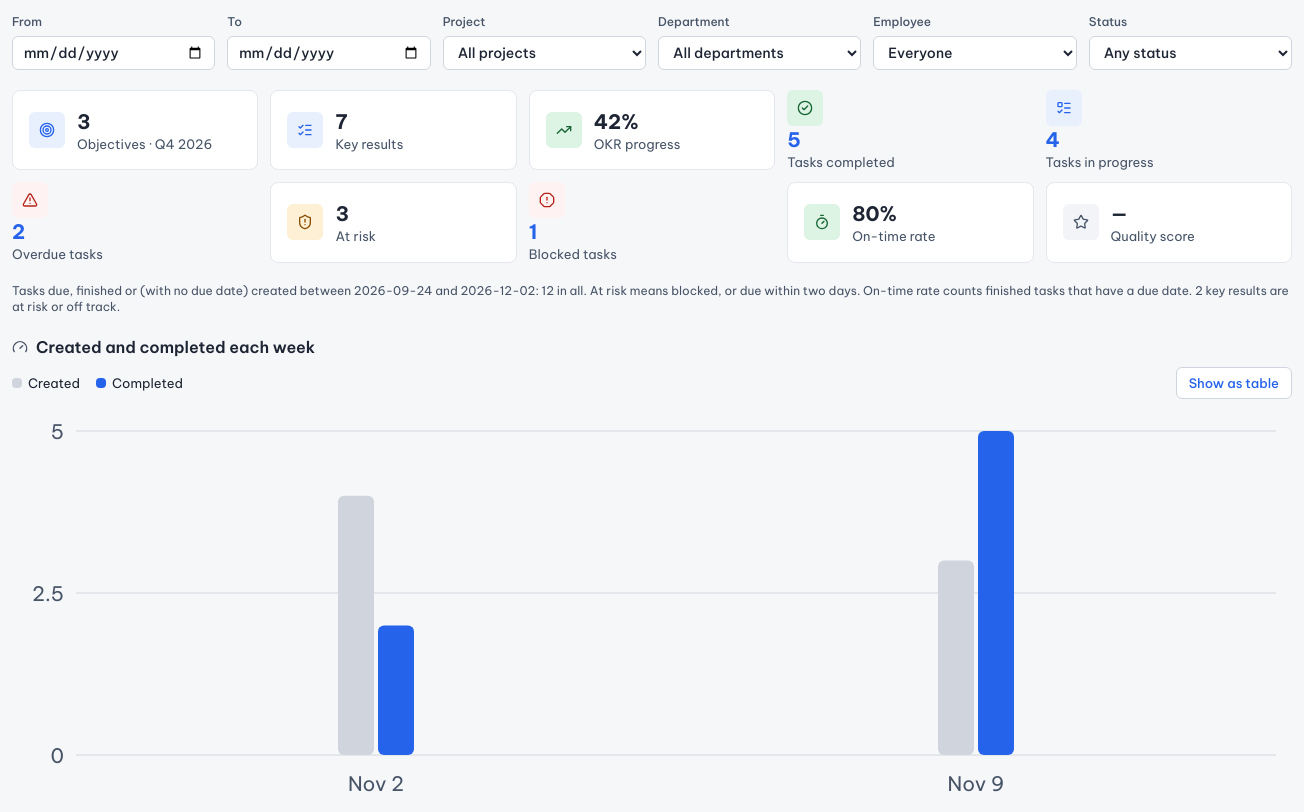
Test: OverviewScreen › switches the trend to a table
Click the button "Show as table" at (1234, 383), box [1176,366,1292,399]
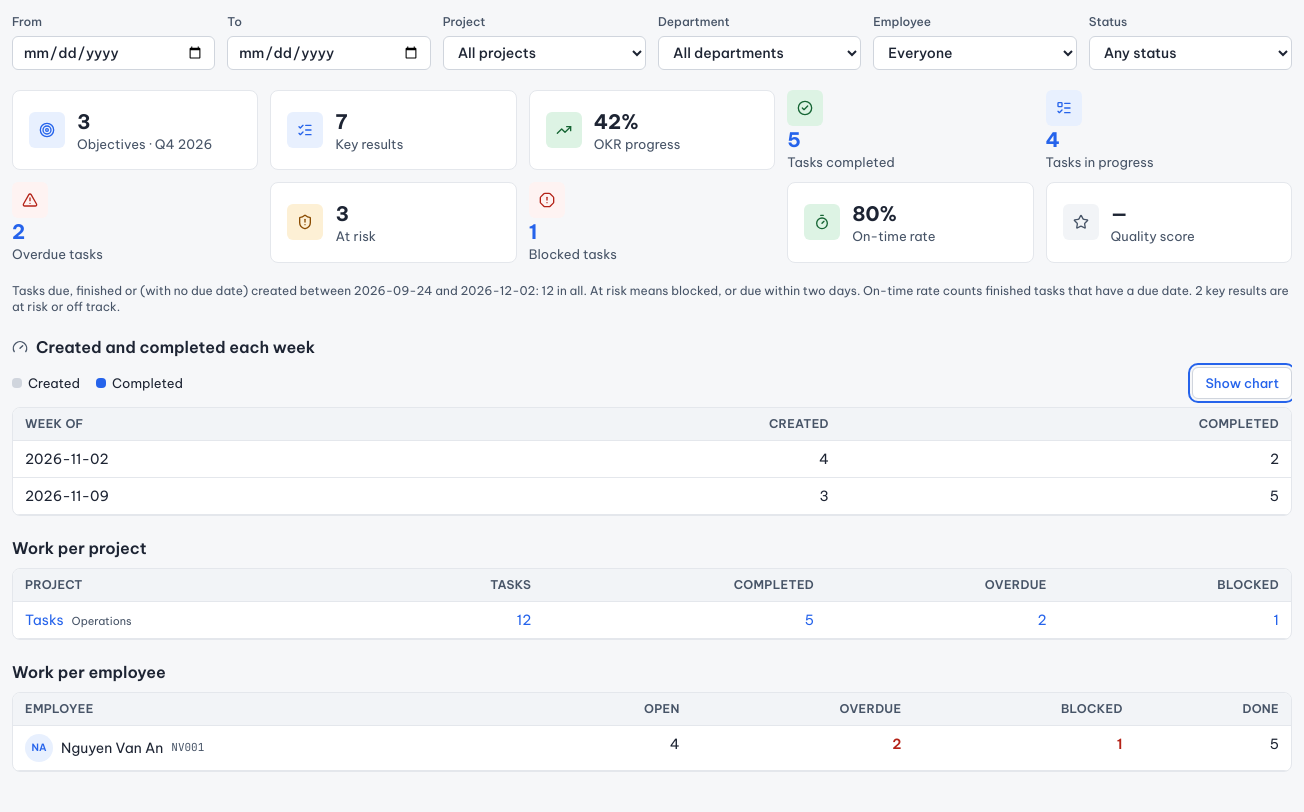
Now the text "2026-11-09" is shown, box [13,478,479,515]
Now the button "Show chart" is shown, box [1192,366,1292,399]
